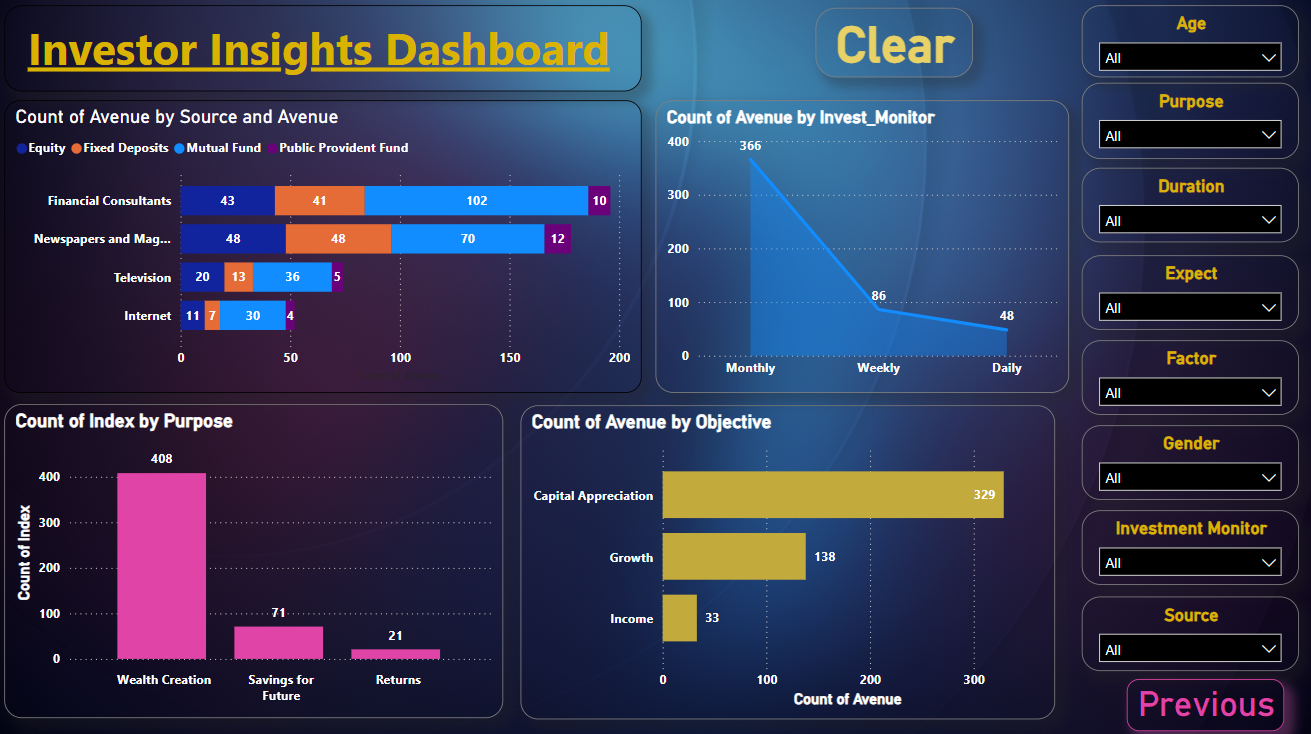

Layout of this report page (visuals, bound fields, positions):
{"tool":"powerbi","page":{"name":"Duplicate of Page 2","canvas":[1280,720],"ordinal":1},"visuals":[{"type":"slicer","title":"Age","fields":{"Values":["Data_set 2 - Copy.age"]},"box":[1050.8,10.9,209.9,70],"z":0},{"type":"slicer","title":"Purpose","fields":{"Values":["Data_set 2 - Copy.Purpose"]},"box":[1050.8,85.7,209.9,73.6],"z":1000},{"type":"slicer","title":"Duration","fields":{"Values":["Data_set 2 - Copy.Duration"]},"box":[1050.8,167.7,209.9,72.4],"z":2000},{"type":"slicer","title":"Expect","fields":{"Values":["Data_set 2 - Copy.Expect"]},"box":[1050.8,252.1,209.9,72.4],"z":3000},{"type":"slicer","title":"Factor","fields":{"Values":["Data_set 2 - Copy.Factor"]},"box":[1050.8,334.2,209.9,72.4],"z":4000},{"type":"slicer","title":"Gender","fields":{"Values":["Data_set 2 - Copy.gender"]},"box":[1050.8,416.2,209.9,72.4],"z":5000},{"type":"slicer","title":"Investment Monitor ","fields":{"Values":["Data_set 2 - Copy.Invest_Monitor"]},"box":[1050.8,498.3,209.9,72.4],"z":6000},{"type":"slicer","title":"Source ","fields":{"Values":["Data_set 2 - Copy.Source"]},"box":[1050.8,581.5,209.9,72.4],"z":7000},{"type":"textbox","box":[10.9,10.9,615.3,83.2],"z":13000},{"type":"shape","title":"Previous","box":[1094.2,661.1,152,50.7],"z":14000},{"type":"columnChart","fields":{"Category":["Data_set 2 - Copy.Purpose"],"Y":["Count(Data_set 2 - Copy.Index)"]},"box":[10.9,395.7,481.4,302.8],"z":14002},{"type":"clusteredBarChart","fields":{"Category":["Data_set 2 - Copy.Objective"],"Y":["CountNonNull(Data_set 2 - Copy.Avenue)"]},"box":[509.1,396.9,516.4,302.8],"z":14003},{"type":"barChart","fields":{"Category":["Data_set 2 - Copy.Source"],"Series":["Data_set 2 - Copy.Avenue"],"Y":["CountNonNull(Data_set 2 - Copy.Avenue)"]},"box":[10.9,102.5,615.3,282.3],"z":14004},{"type":"areaChart","title":"Count of Avenue by Invest_Monitor","fields":{"Category":["Data_set 2 - Copy.Invest_Monitor"],"Y":["CountNonNull(Data_set 2 - Copy.Index)"]},"box":[639.4,102.5,399.3,282.3],"z":14005},{"type":"shape","title":"Clear","box":[793.8,13.3,152,67.6],"z":14006}]}

Visuals, with their boxes in screenshot pixels (x1, y1, x2, y2), scaled from the page's 1280x720 canvas onto the 1311x734 screenshot:
"Age" slicer: bbox(1076, 11, 1291, 82)
"Purpose" slicer: bbox(1076, 87, 1291, 162)
"Duration" slicer: bbox(1076, 171, 1291, 245)
"Expect" slicer: bbox(1076, 257, 1291, 331)
"Factor" slicer: bbox(1076, 341, 1291, 415)
"Gender" slicer: bbox(1076, 424, 1291, 498)
"Investment Monitor " slicer: bbox(1076, 508, 1291, 582)
"Source " slicer: bbox(1076, 593, 1291, 667)
textbox: bbox(11, 11, 641, 96)
"Previous" shape: bbox(1121, 674, 1276, 726)
columnChart - Data_set 2 - Copy.Purpose x Count(Data_set 2 - Copy.Index): bbox(11, 403, 504, 712)
clusteredBarChart - Data_set 2 - Copy.Objective x CountNonNull(Data_set 2 - Copy.Avenue): bbox(521, 405, 1050, 713)
barChart - Data_set 2 - Copy.Source x Data_set 2 - Copy.Avenue: bbox(11, 104, 641, 392)
"Count of Avenue by Invest_Monitor" areaChart: bbox(655, 104, 1064, 392)
"Clear" shape: bbox(813, 14, 969, 82)
